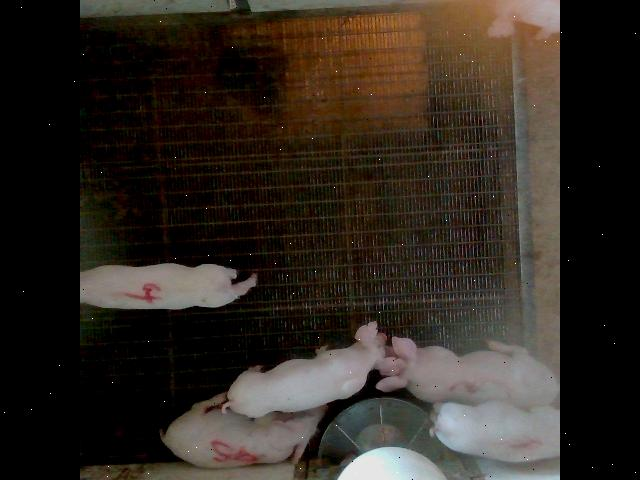pig-1: (430, 400, 559, 461)
pig-3: (376, 336, 558, 406)
pig-4: (80, 262, 257, 308)
pig-5: (161, 392, 326, 466)
